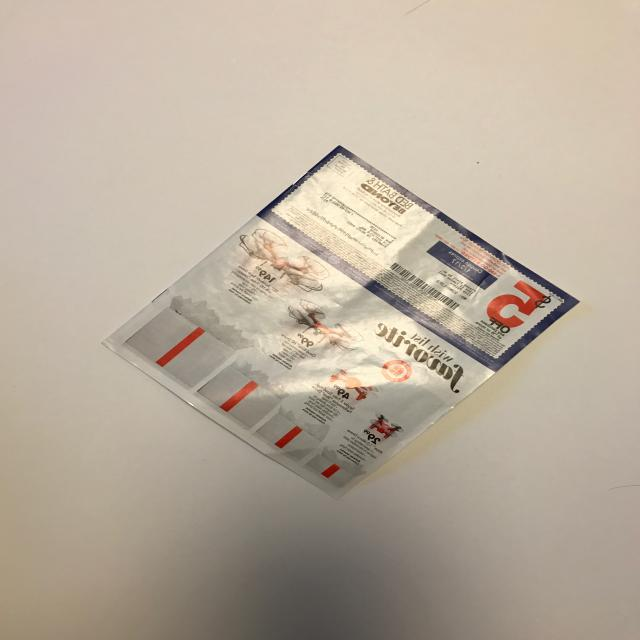paper: (87, 134, 590, 504)
